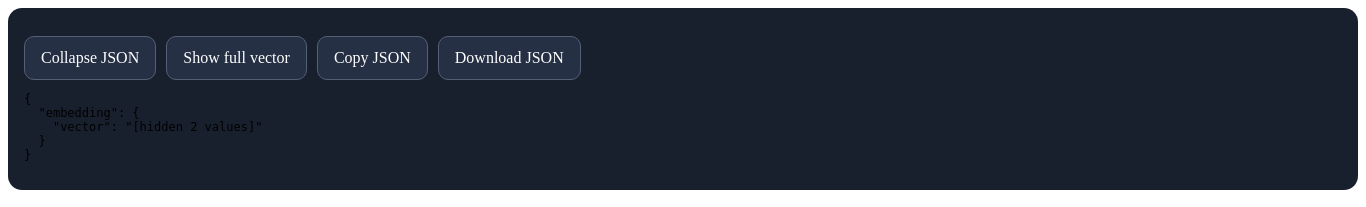
Test: React components › provides JSON controls
Check: the button labelled "Copy JSON" is shown, box [317, 36, 428, 80]
Check: the button labelled "Download JSON" is shown, box [438, 36, 581, 80]
What coordinates should you click on to do the following:
click the button "Collapse JSON"
I would click on:
 (90, 58)
Its box is [24, 36, 156, 80].
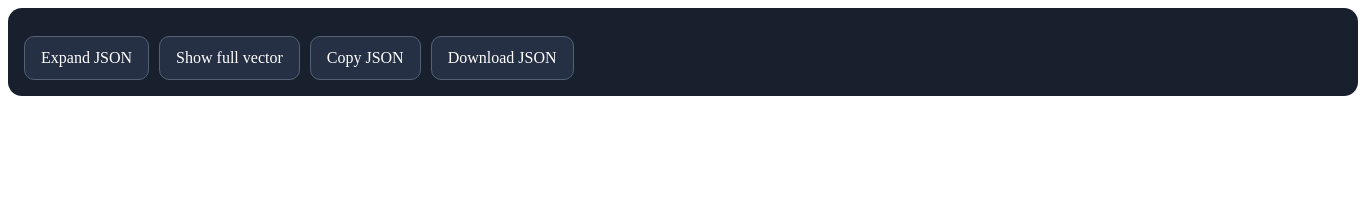
Check: the text "hidden 2 values" is gone
